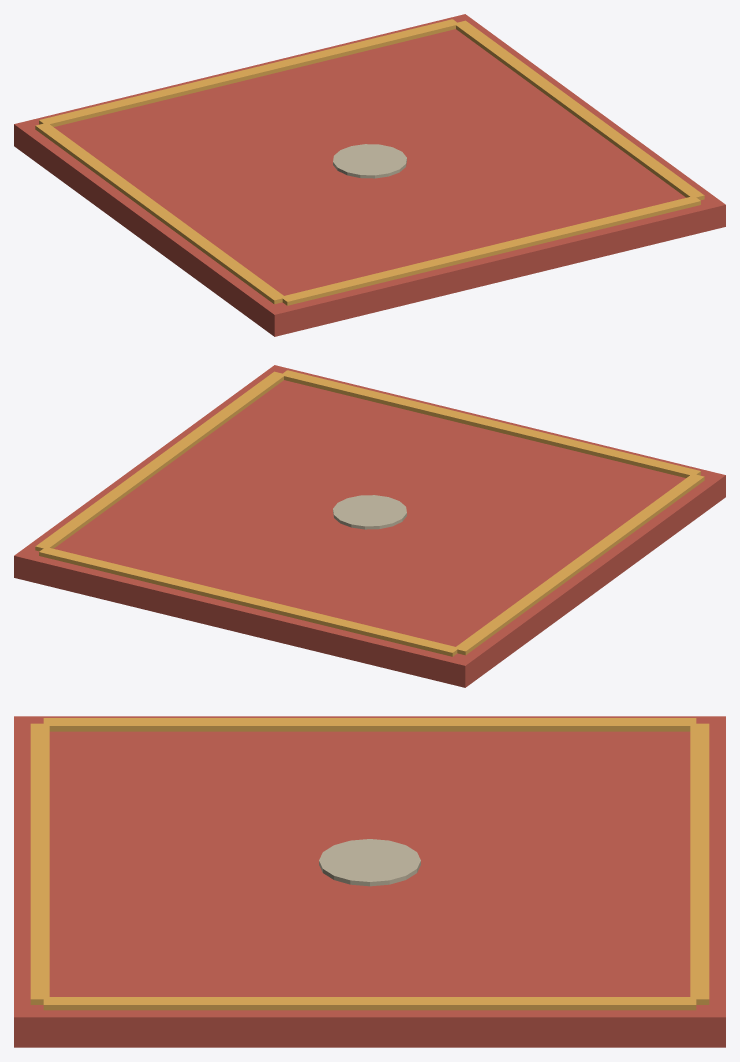
The model's file is space_die_coral_face_1.glb.
3 views of the same model, one above another, from view 1: azimuth 30°, elevation 25°; view 2: azimuth 150°, elevation 25°; view 3: azimuth 270°, elevation 25° (orthographic). The views are drawn at different scales.
Visible parts, largest first — view 1: FixedDetails, BrassTrim; view 2: FixedDetails, BrassTrim; view 3: FixedDetails, BrassTrim.
Boxes of the visible parts, left/top/right/bottom form: FixedDetails: left=14, top=14, right=725, bottom=336; BrassTrim: left=35, top=19, right=704, bottom=305; FixedDetails: left=14, top=365, right=725, bottom=687; BrassTrim: left=35, top=370, right=704, bottom=656; FixedDetails: left=14, top=716, right=725, bottom=1047; BrassTrim: left=30, top=718, right=709, bottom=1010.
Bounding box in the file's own units: 0.6 × 0.034 × 0.6.
